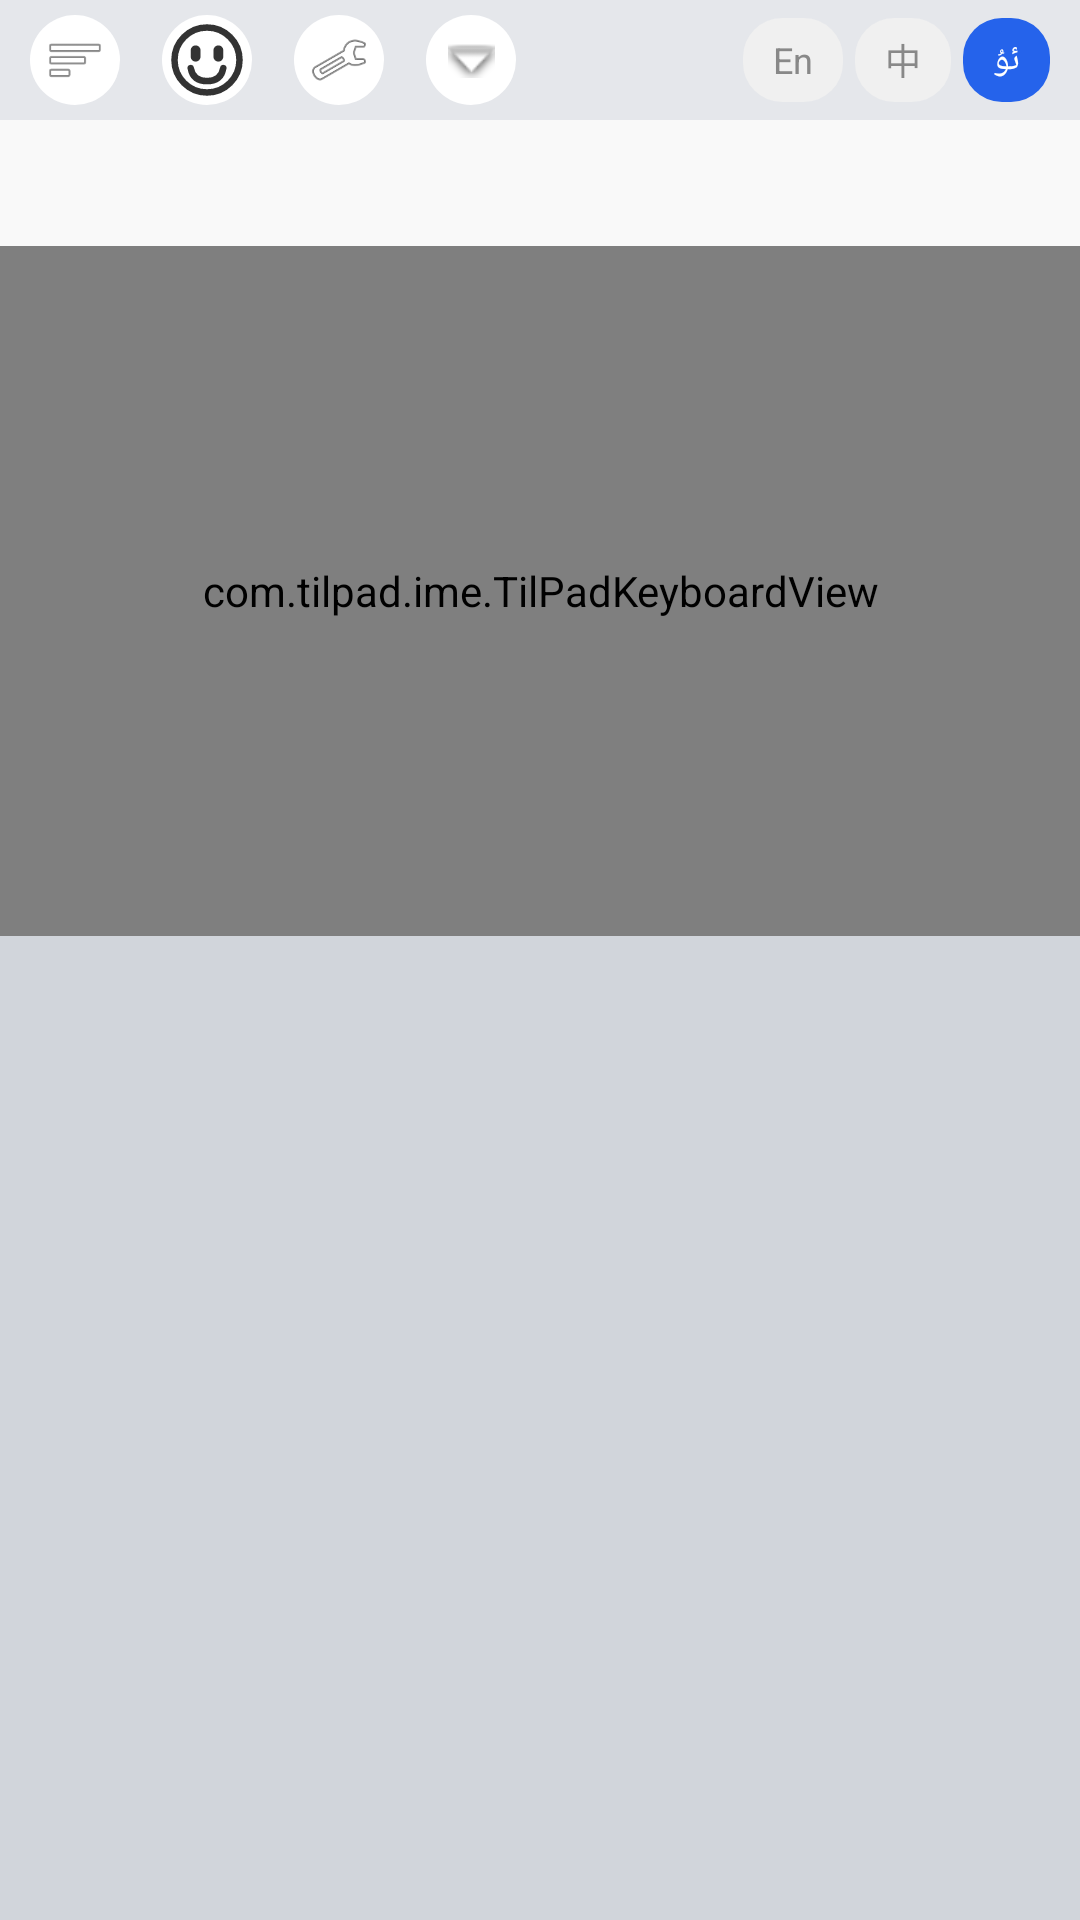

Named icons in this screenshot (1080 x 1920) and their bounding boxes, (x1, y1, x2, y2):
Collapse: (426, 15, 516, 105)
Emoji: (162, 15, 252, 105)
Layout: (30, 15, 120, 105)
preferences: (294, 15, 384, 105)
